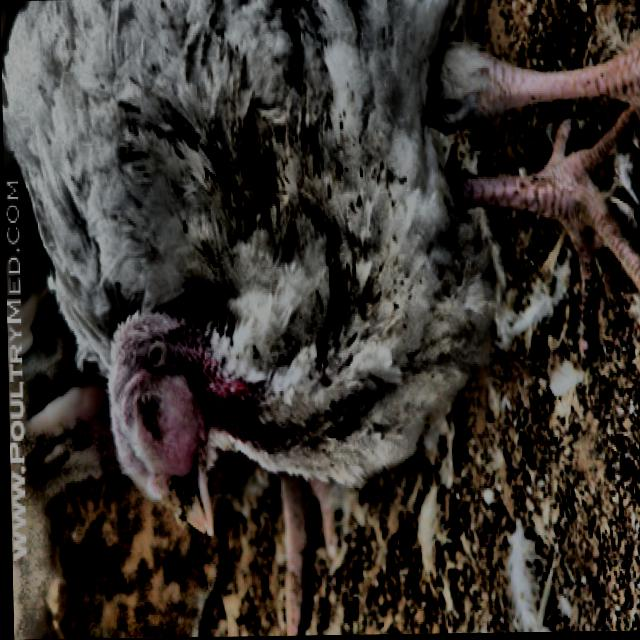Infectios bronchitis: (91, 297, 266, 522)
